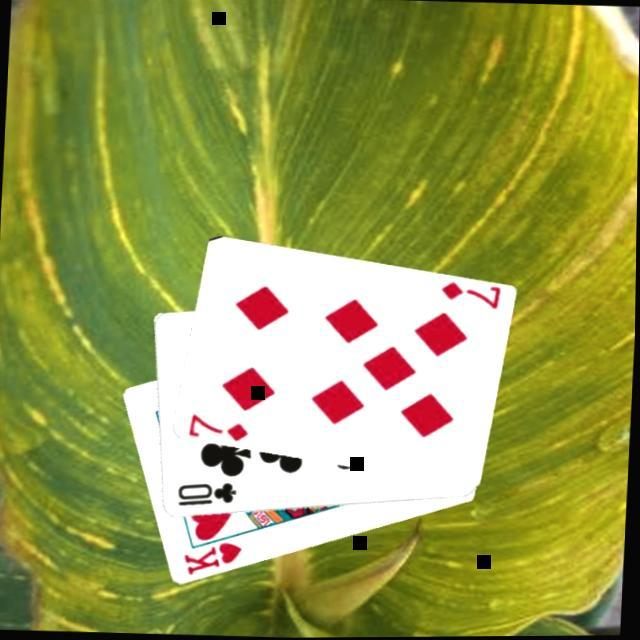10C: (174, 478, 239, 510)
7D: (185, 410, 251, 442), (437, 280, 502, 312)
KH: (180, 536, 246, 578)
